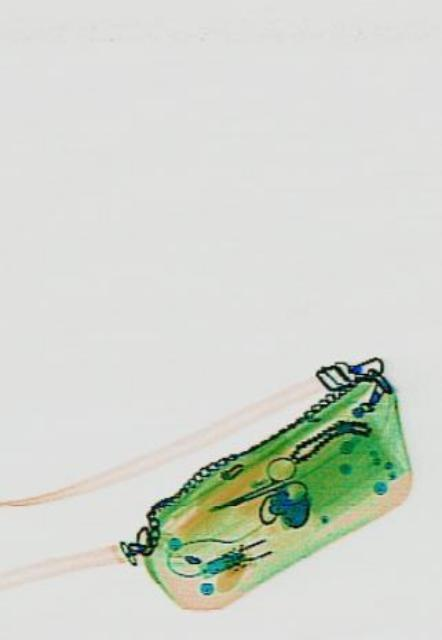Scissors: (200, 446, 306, 534)
